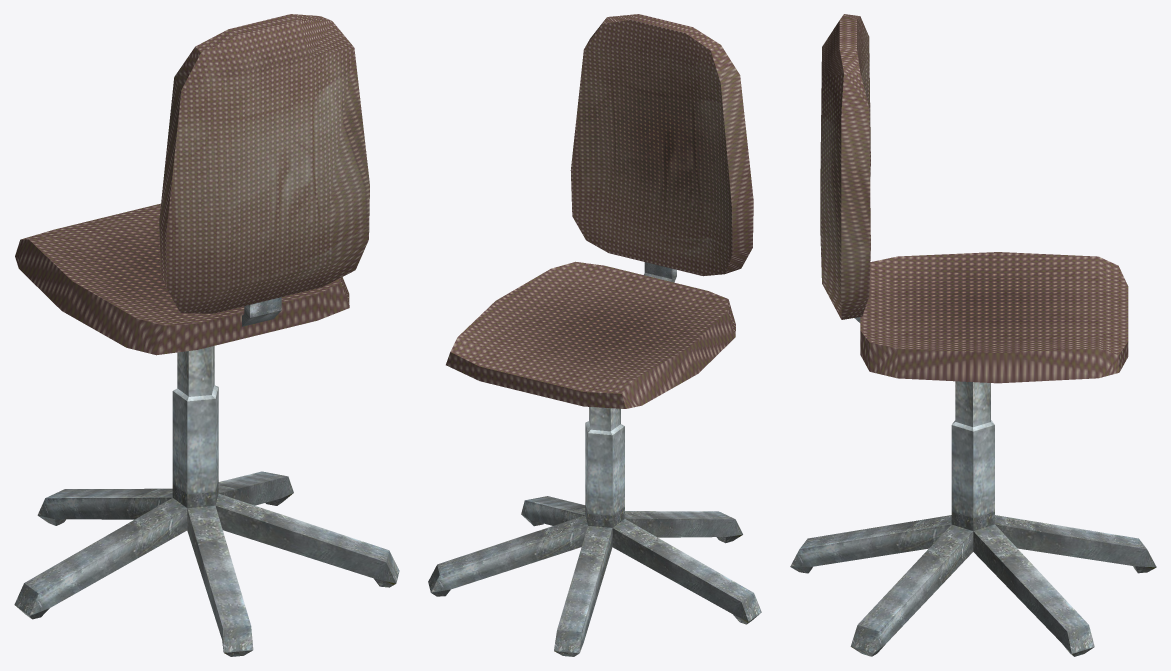
File: furniture_officechair.dae
The picture shows the model from 3 angles, left to right: view 1: azimuth 30°, elevation 25°; view 2: azimuth 150°, elevation 25°; view 3: azimuth 270°, elevation 25°; orthographic projection. The views are drawn at different scales.
Visible parts, largest first — view 1: officechair; view 2: officechair; view 3: officechair.
Part boxes in pixels (<box>): officechair: <box>14,14,399,656</box>; officechair: <box>428,14,761,656</box>; officechair: <box>790,14,1156,656</box>.
Size of what is drawn, in the model's own units: 0.6654 by 1.18 by 0.6988.
